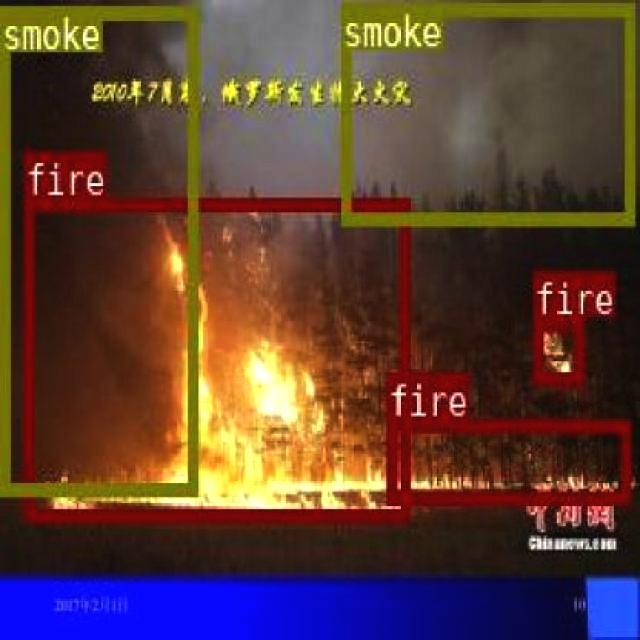fire: (22, 196, 408, 518), (384, 418, 628, 500), (532, 315, 582, 383)
smoke: (0, 4, 197, 493), (339, 2, 633, 225)
